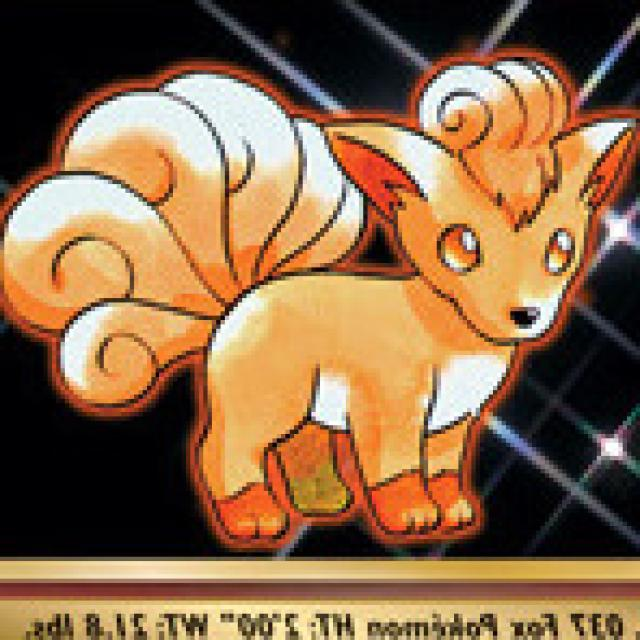Vulpix: (149, 38, 624, 548)
